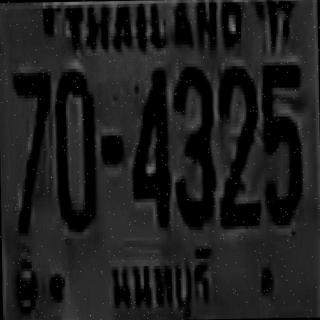N00: (54, 68, 96, 229)
N02: (217, 64, 258, 225)
N03: (172, 63, 214, 224)
N04: (130, 64, 169, 225)
N05: (261, 62, 304, 222)
N07: (12, 69, 51, 230)
P37: (107, 240, 216, 320)
